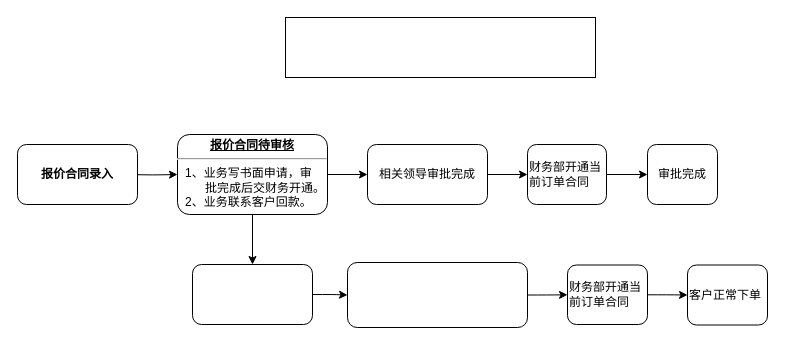
This 785x350 diagram has some shape labels left out. Each missing label, with the centre of its shape:
客户回款: point (252, 294)
订单合同审批流程: point (440, 47)
财务确认收款 ERP：财务管理-应收收款登记: point (437, 295)
